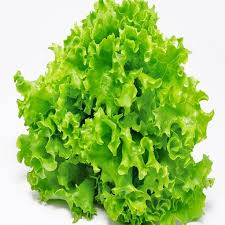Lettuce: (18, 1, 212, 224)
